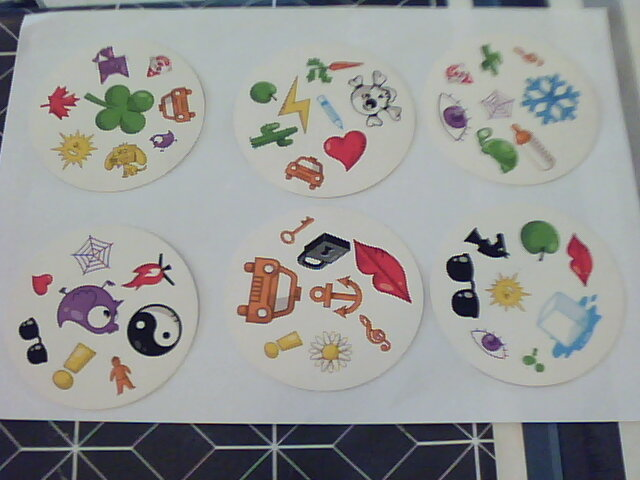ancre: (307, 275, 366, 320)
biberon: (508, 122, 561, 174)
bonhomme: (106, 356, 137, 395)
bouche: (353, 239, 416, 304), (564, 231, 597, 288)
cactus: (249, 120, 300, 151), (474, 41, 506, 78)
cadenas: (295, 233, 352, 272)
carotte: (301, 54, 367, 85)
chat: (90, 44, 133, 85)
cheval: (463, 225, 513, 261)
chien: (103, 141, 148, 181)
cible: (478, 87, 519, 123)
cle: (279, 215, 316, 245)
clown: (441, 59, 475, 86), (145, 53, 175, 80)
coeur: (323, 128, 368, 174), (29, 272, 56, 297)
crayon: (316, 92, 346, 131)
eclair: (279, 74, 313, 135)
feu: (120, 249, 177, 290)
feuille: (37, 85, 80, 122)
fleur: (308, 328, 354, 375)
flocon: (519, 74, 585, 127)
glacon: (535, 290, 606, 359)
lunette: (443, 252, 482, 321), (17, 315, 50, 367)
note: (357, 312, 396, 354), (509, 40, 548, 72)
oeuil: (433, 90, 472, 144), (469, 327, 512, 361)
oiseau: (57, 278, 124, 340), (147, 129, 180, 154)
point_exclamation: (51, 342, 99, 391), (263, 328, 304, 364)
pomme: (518, 219, 562, 263), (249, 80, 279, 106)
soleil: (49, 127, 101, 170), (484, 270, 533, 314)
tache: (521, 346, 548, 376)
tete_mort: (348, 69, 403, 133)
toile: (69, 233, 114, 277)
tortue: (475, 124, 521, 175)
trefle: (83, 85, 156, 135)
voiture: (237, 256, 303, 327), (283, 151, 325, 193), (156, 86, 198, 125)
ying_yang: (125, 303, 185, 359)
